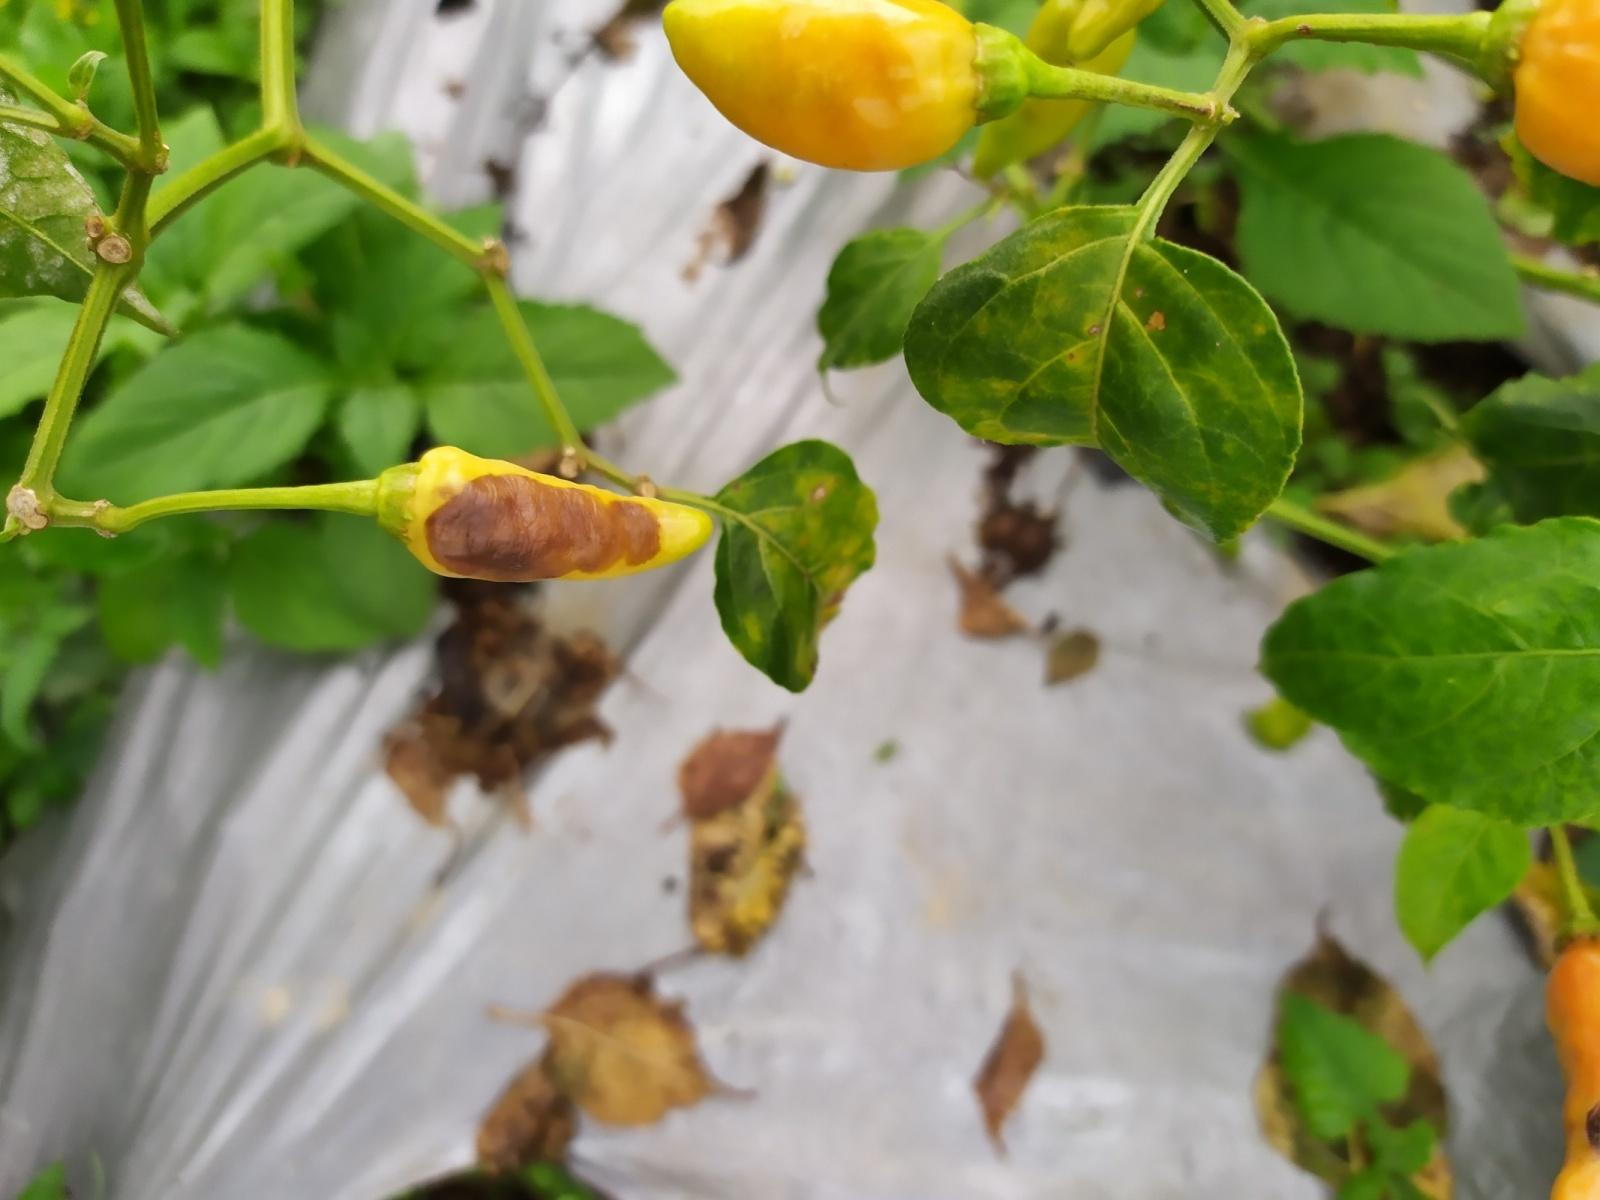cabai_normal: (661, 0, 990, 174)
lalat_buah: (401, 445, 713, 584)
